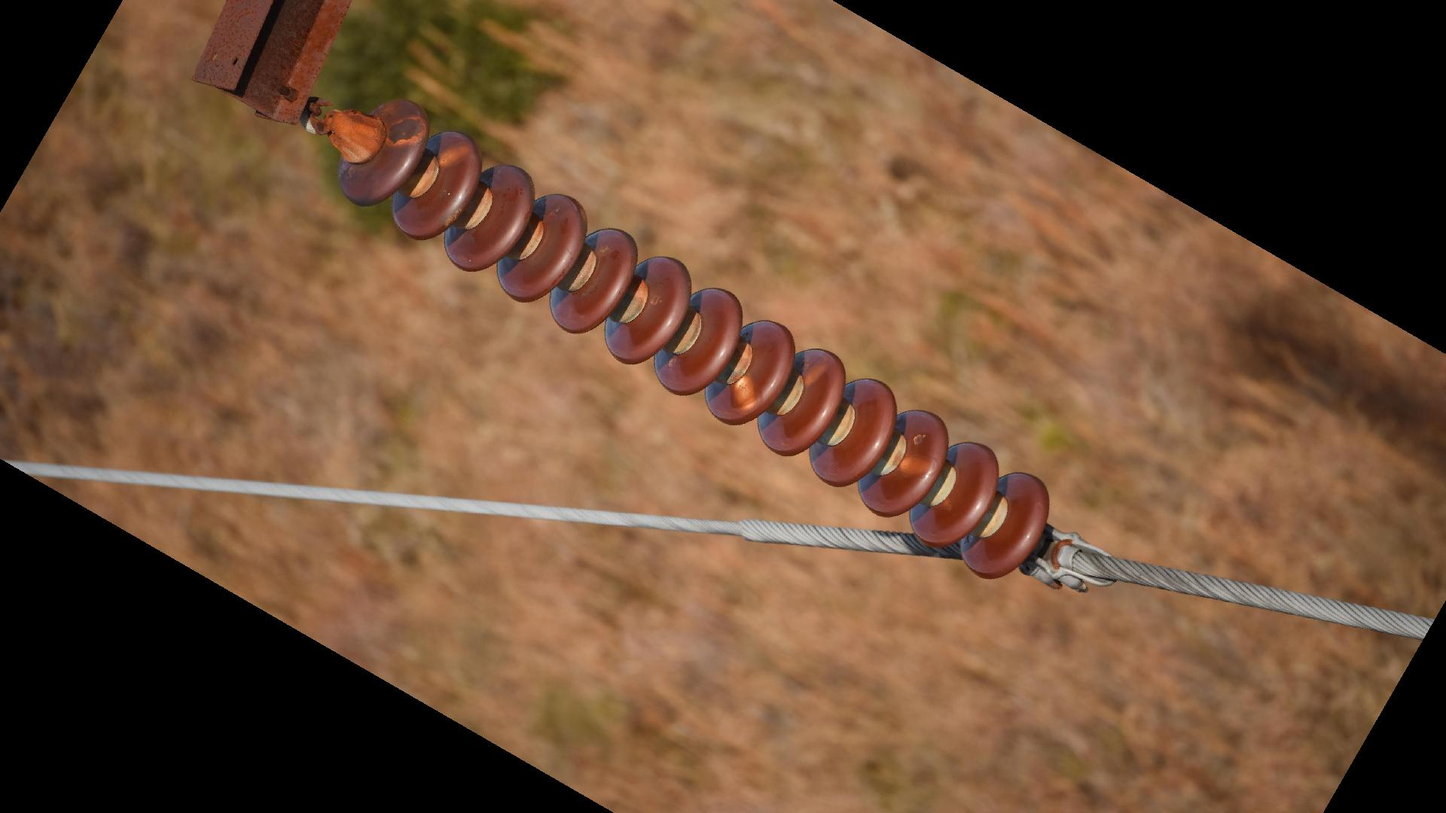insulator: (328, 94, 1057, 589)
insulator_flashover: (386, 114, 429, 147), (731, 373, 761, 413), (436, 139, 473, 169), (898, 452, 939, 478), (801, 360, 830, 390)
